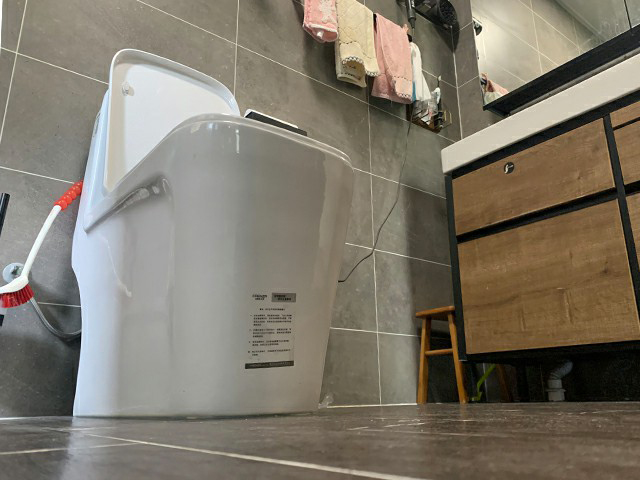cabinet: (440, 52, 640, 405)
closestool: (68, 48, 356, 422)
stool: (415, 304, 472, 405)
